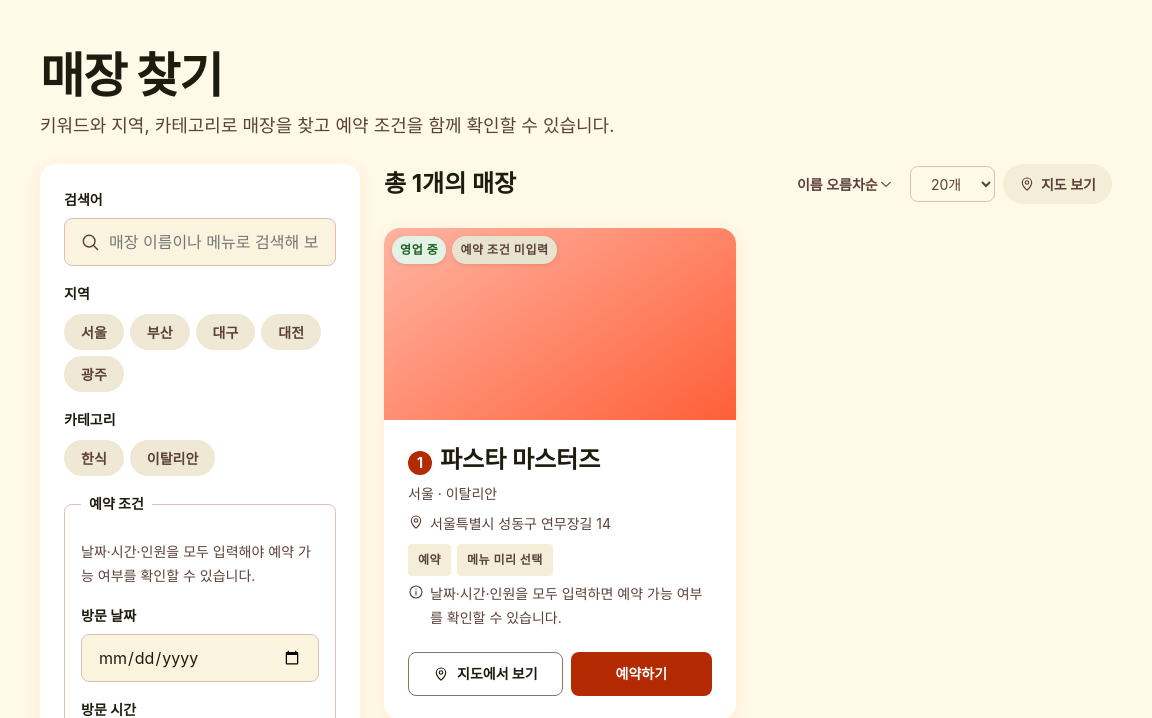
Test case: 매장 찾기 결과 화면 › 예약 조건을 모두 채우면 예약 가능만 보기를 켤 수 있다
Expected: the link "파스타 마스터즈" is shown, [440,444,600,476]
Type "2026-09-01" into the date field labelled "방문 날짜" at (200, 658), box [81,634,319,682]
(page scrolled)
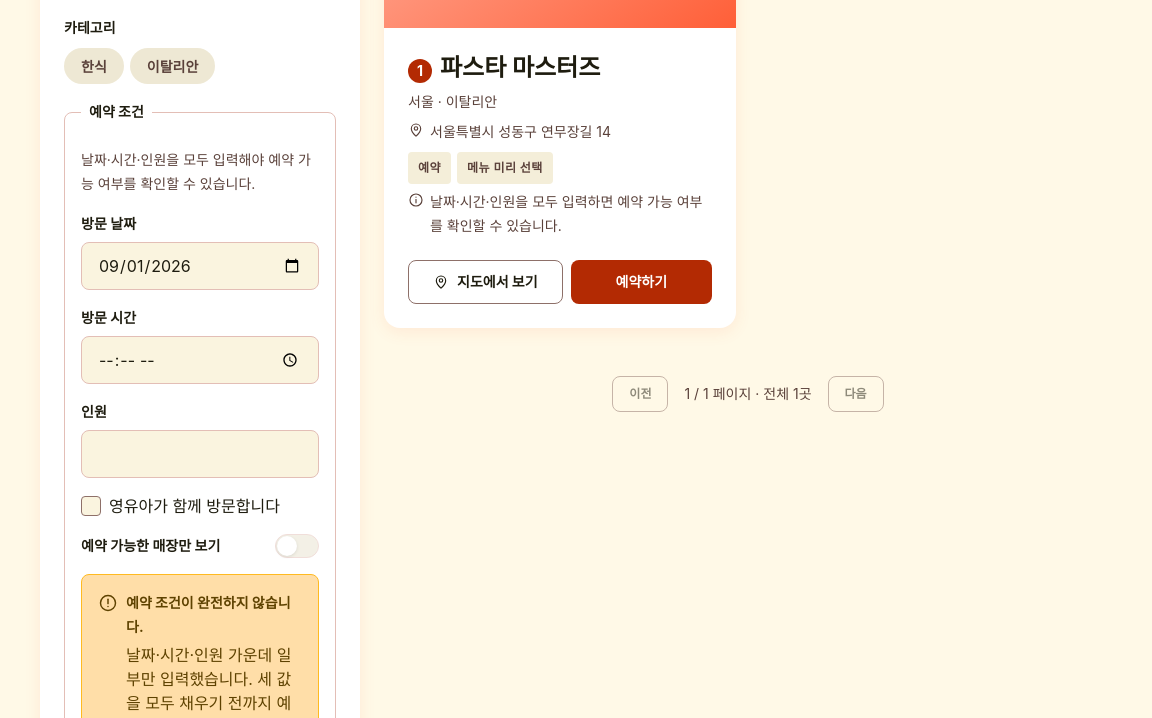
Type "19:00" into the time field labelled "방문 시간" at (200, 360), box [81,336,319,384]
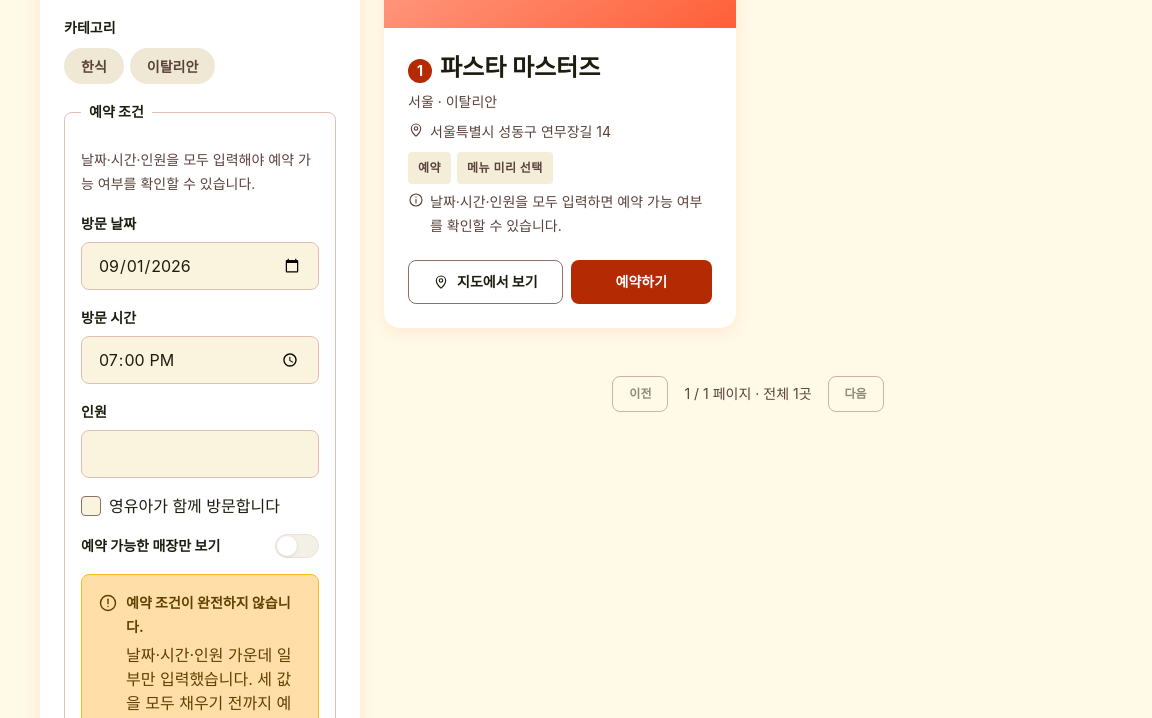
Type "2" into the number field labelled "인원" at (200, 454), box [81,430,319,478]
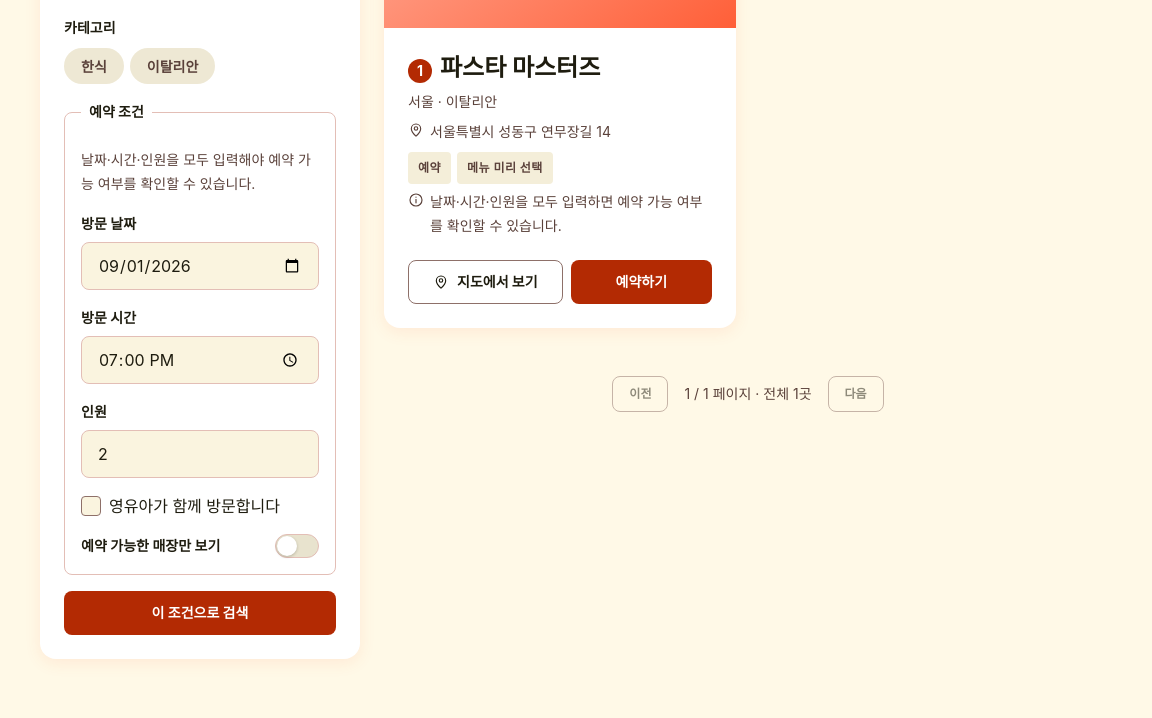
Expected: the checkbox labelled "예약 가능한 매장만 보기" is enabled, [275,534,319,558]
